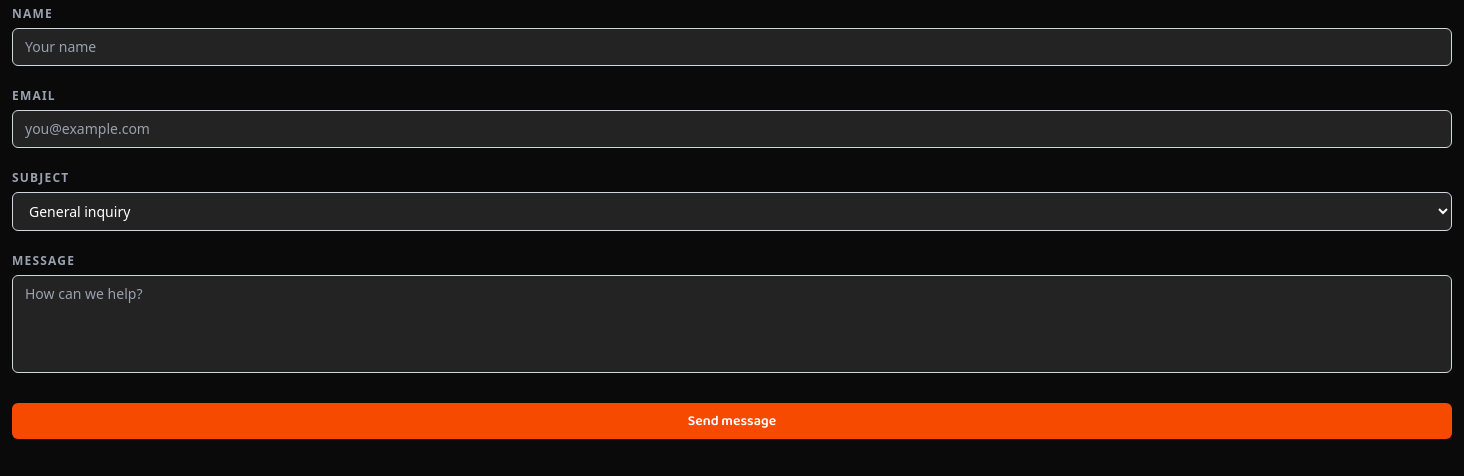
Test case: ContactForm › shows an error when the email is invalid
Type "Andrés" into the field labelled "Name" at (732,47), box [12,28,1452,66]
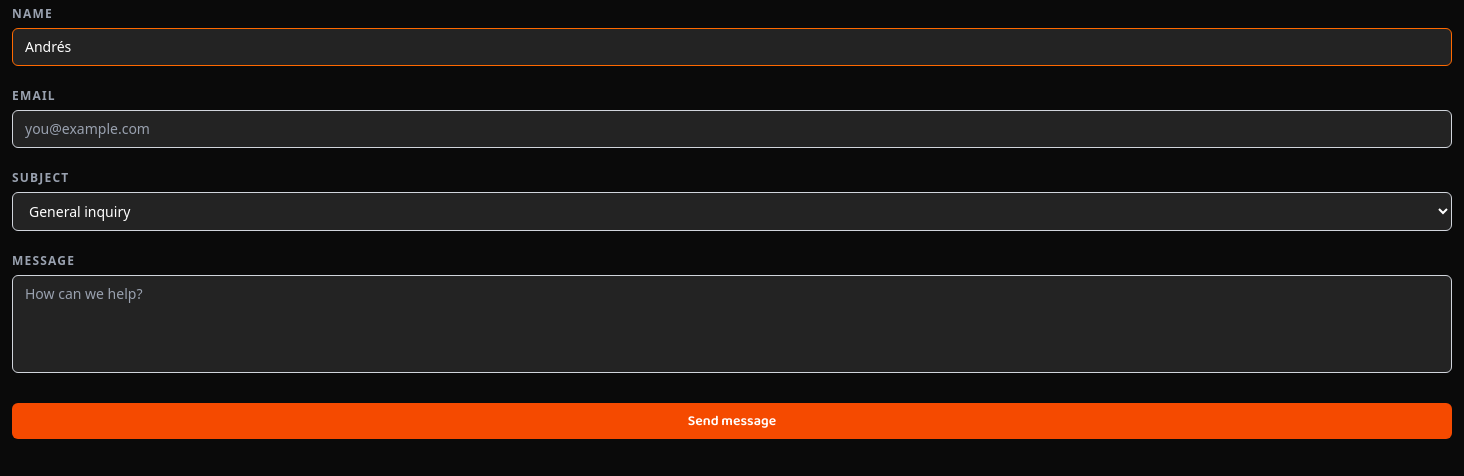
Type "not-an-email" into the field labelled "Email" at (732,129), box [12,110,1452,148]
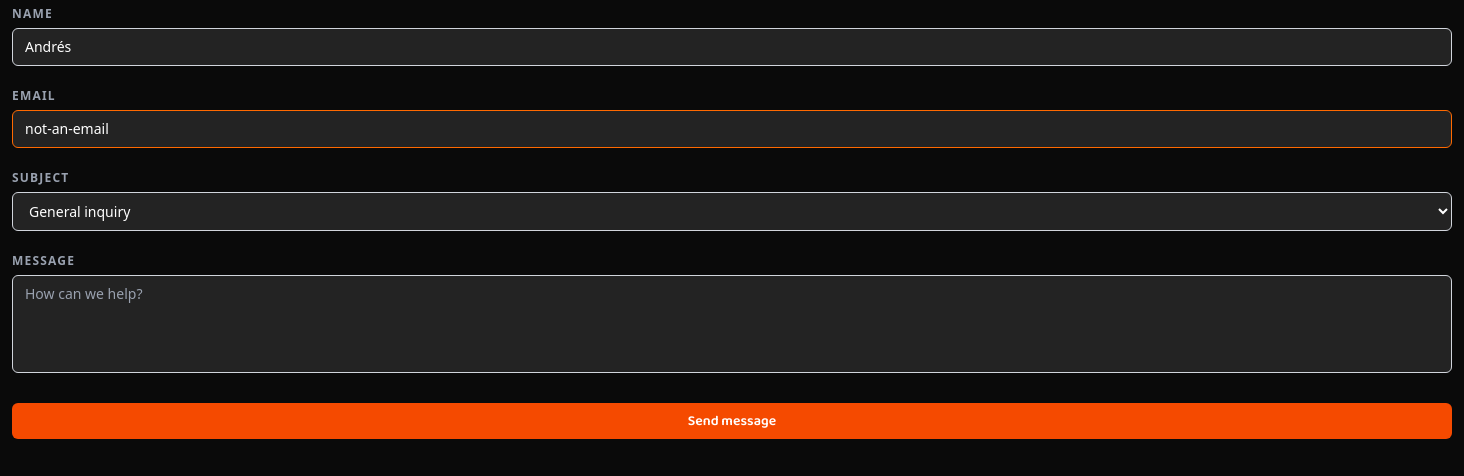
Type "Hi there" into the text box labelled "Message" at (732,324), box [12,275,1452,373]
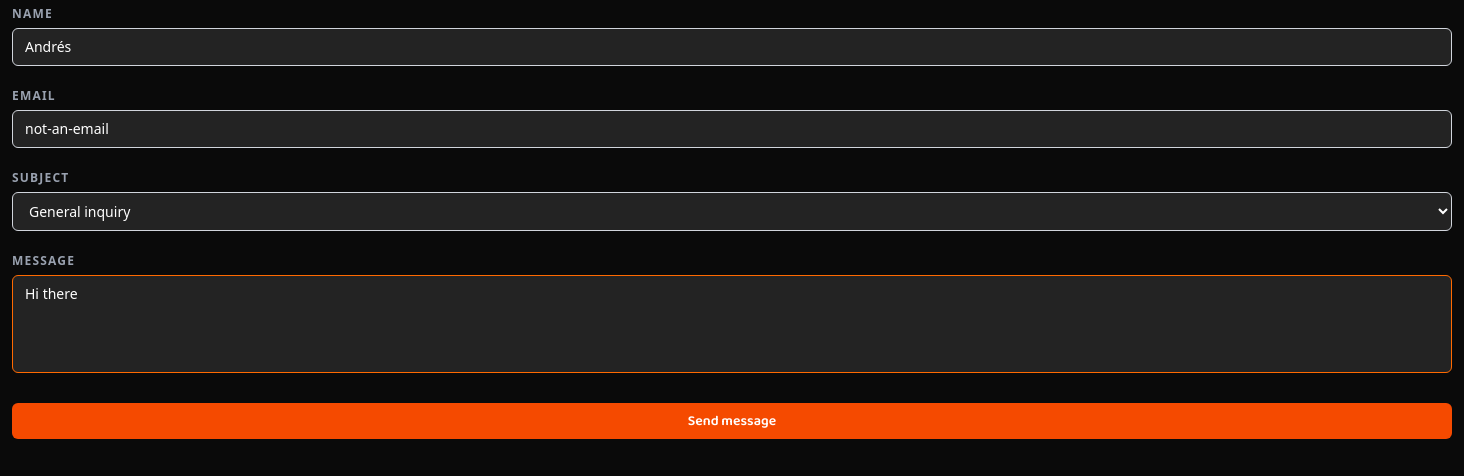
Click the button "Send message" at (732,421), box [12,403,1452,439]
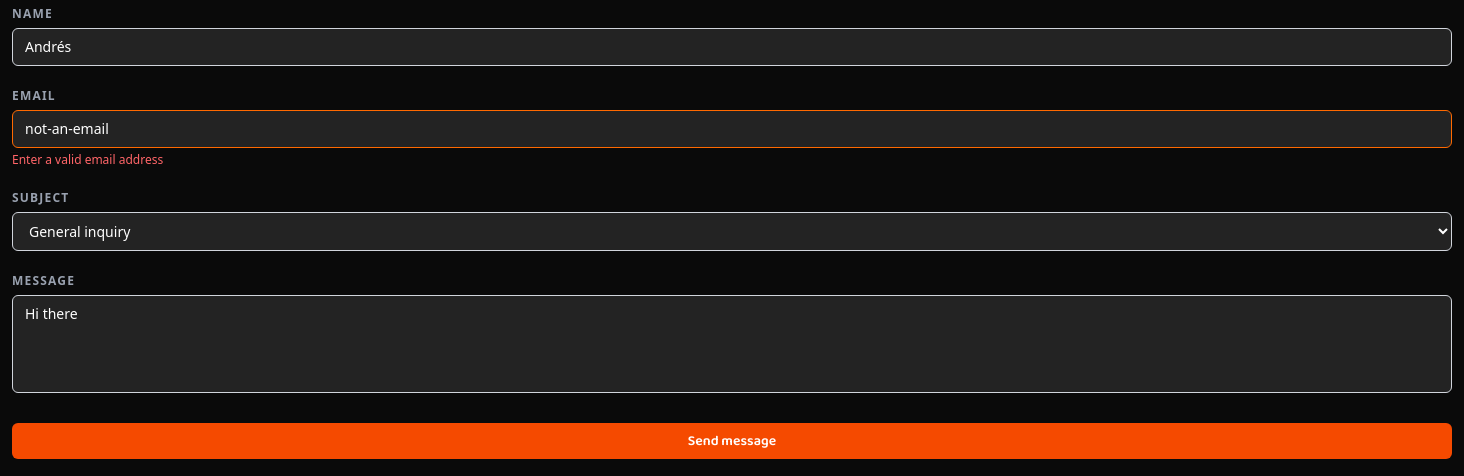
Expected: the text "Enter a valid email address" is shown, [12,151,163,168]
